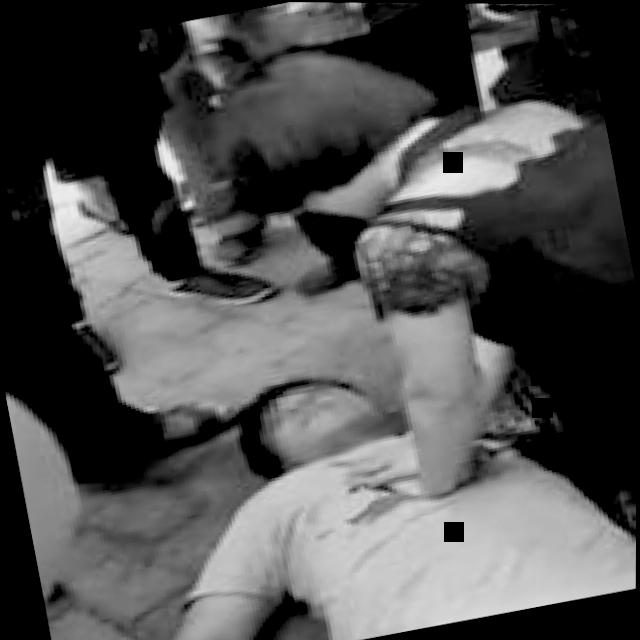Fall-Detected: (47, 295, 638, 640)
